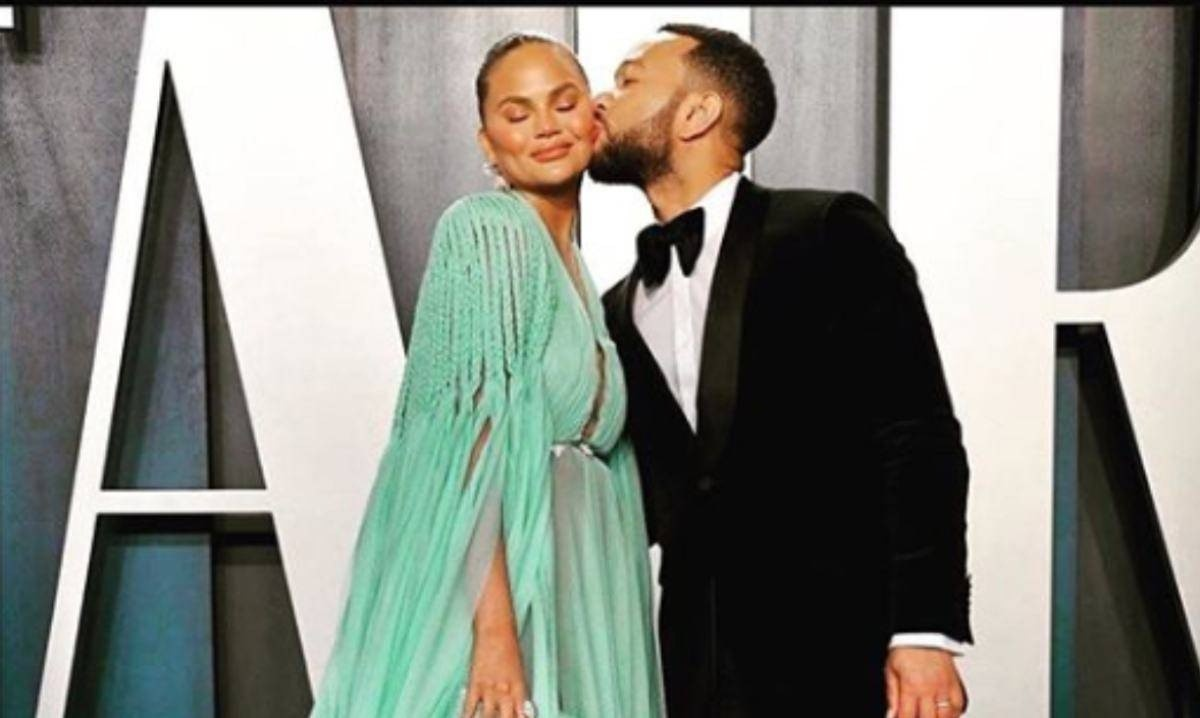face_no_mask: (591, 23, 777, 184), (478, 32, 593, 186)
